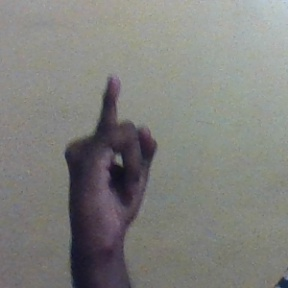I: (66, 74, 159, 237)
